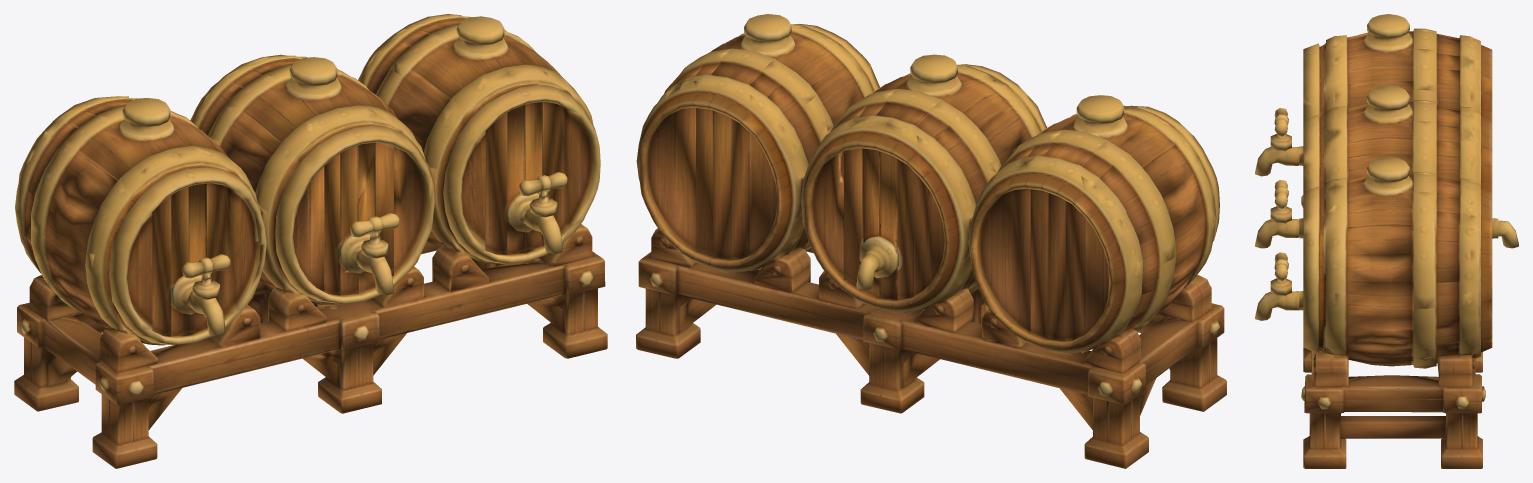
The model's file is golden_barrels.glb.
3 renders of one model, left to right at view 1: azimuth 30°, elevation 25°; view 2: azimuth 150°, elevation 25°; view 3: azimuth 270°, elevation 25°, orthographic. The views are drawn at different scales.
Parts seen in each view (by area): view 1: tripo_node_02990d57-f505-4346-9be6-f23b74cefefa; view 2: tripo_node_02990d57-f505-4346-9be6-f23b74cefefa; view 3: tripo_node_02990d57-f505-4346-9be6-f23b74cefefa.
Part boxes in pixels (x1,y1,x2,y2): tripo_node_02990d57-f505-4346-9be6-f23b74cefefa: (14,14,607,468); tripo_node_02990d57-f505-4346-9be6-f23b74cefefa: (636,14,1226,468); tripo_node_02990d57-f505-4346-9be6-f23b74cefefa: (1255,14,1518,468).
Bounding box in the file's own units: 0.9781 × 0.557 × 0.4919.
1 material, 1 textured.
